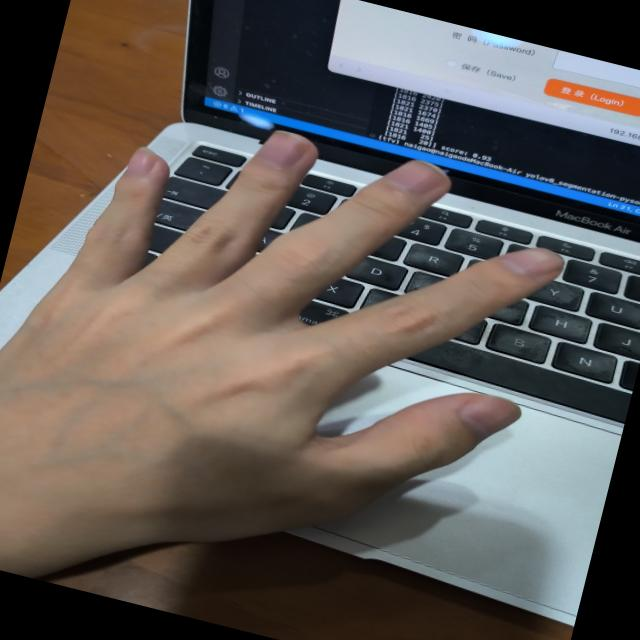Nail: (459, 395, 520, 437), (383, 161, 448, 196), (254, 131, 310, 170), (499, 248, 564, 276), (128, 146, 155, 175)
